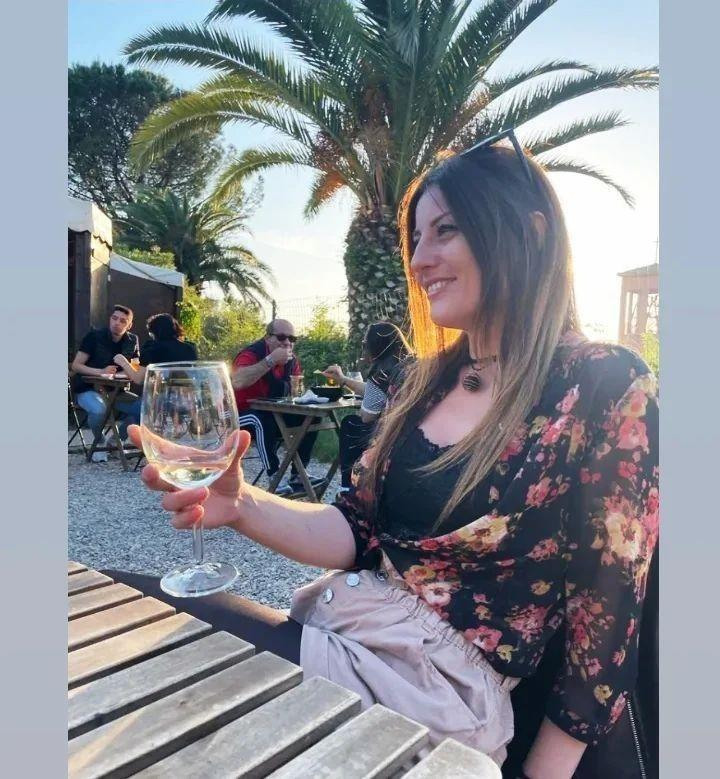glass-wine: (132, 358, 253, 608)
